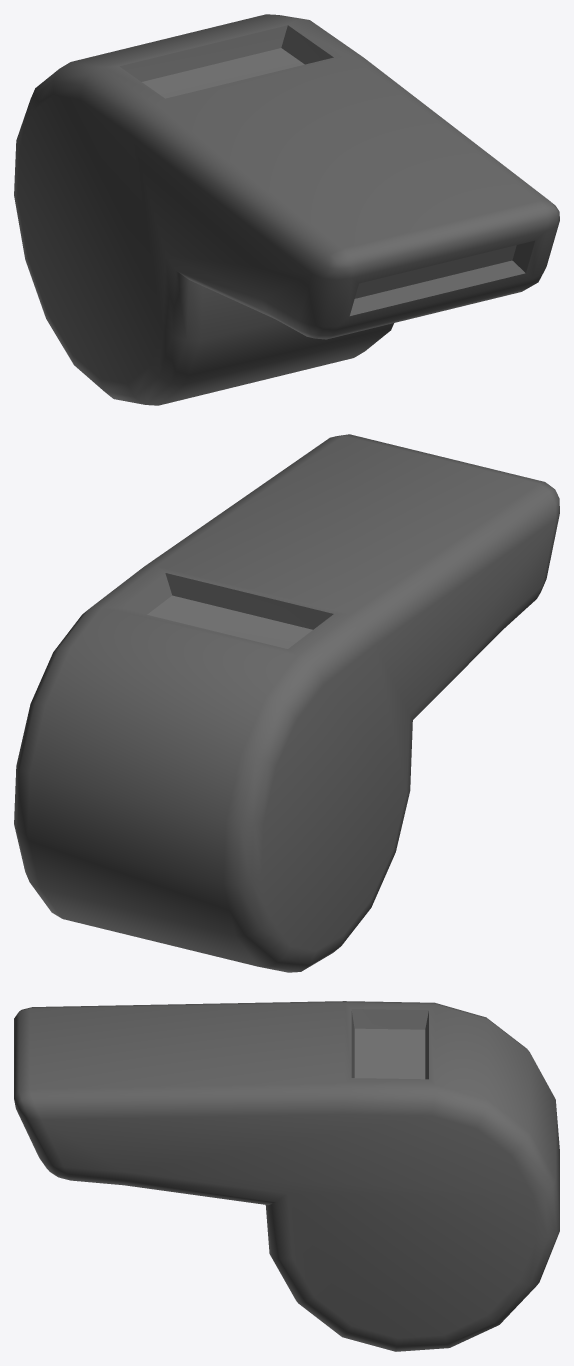
File: Referee Whistle_2.fbx
3 views of the same model, one above another, from view 1: azimuth 30°, elevation 25°; view 2: azimuth 150°, elevation 25°; view 3: azimuth 270°, elevation 25° (orthographic). The views are drawn at different scales.
Parts seen in each view (by area): view 1: Referee Whistle_2; view 2: Referee Whistle_2; view 3: Referee Whistle_2.
Part boxes in pixels (x1,y1,x2,y2): Referee Whistle_2: (14,14,559,405); Referee Whistle_2: (14,434,559,972); Referee Whistle_2: (14,1001,559,1351).
Bounding box in the file's own units: 0.0323 × 0.0401 × 0.0746.
